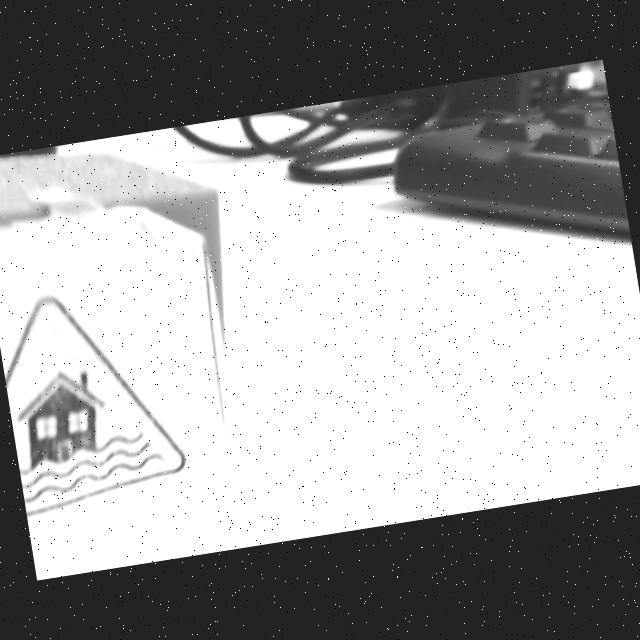Tsunami: (5, 297, 185, 516)
